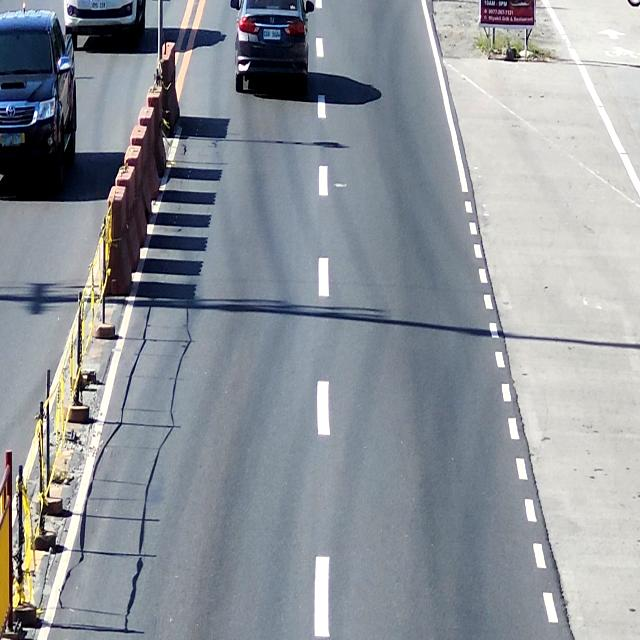Car: (0, 3, 79, 186), (231, 0, 310, 95), (62, 0, 152, 49)
License-Plate: (0, 126, 26, 150), (261, 28, 284, 45), (88, 0, 106, 12)
